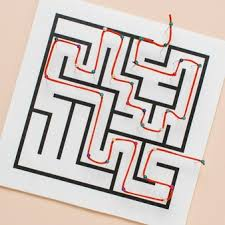maze: (43, 51, 177, 184)
